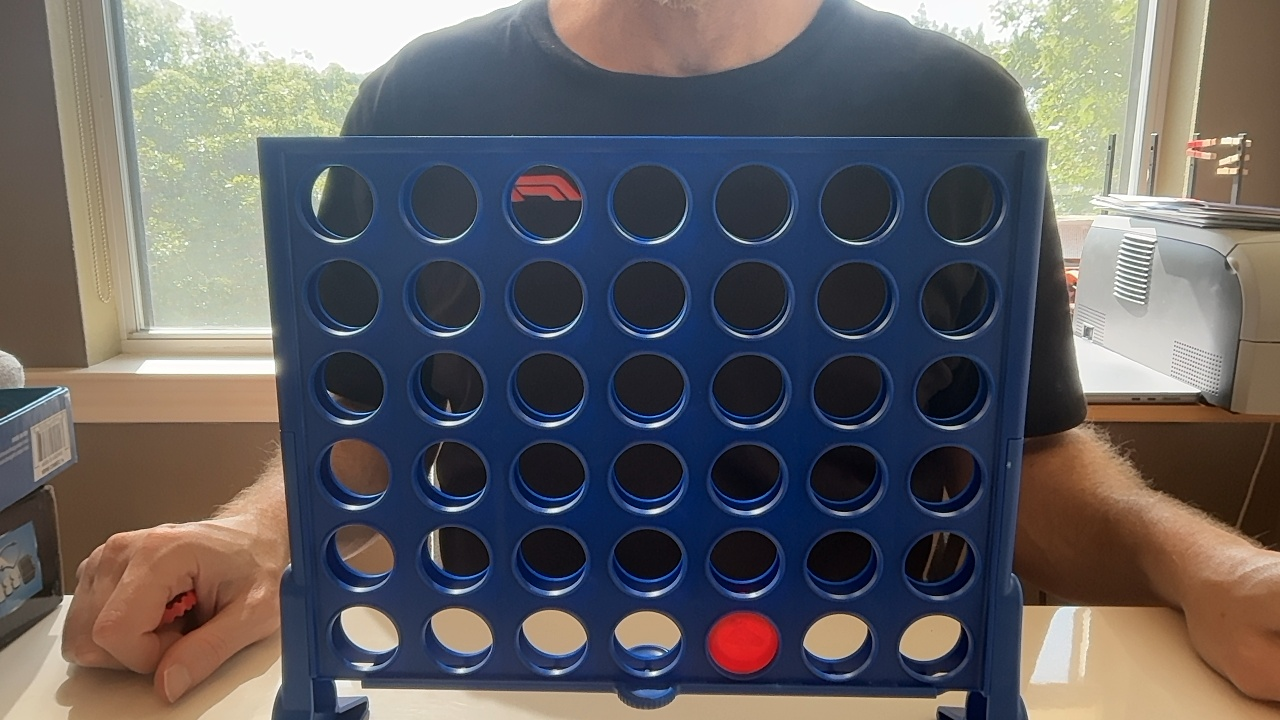red piece: (708, 611, 779, 675)
